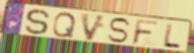F: (131, 19, 161, 46)
L: (161, 23, 182, 50)
Q: (52, 11, 78, 39)
S: (24, 8, 52, 36), (106, 17, 132, 44)
V: (80, 11, 108, 42)
